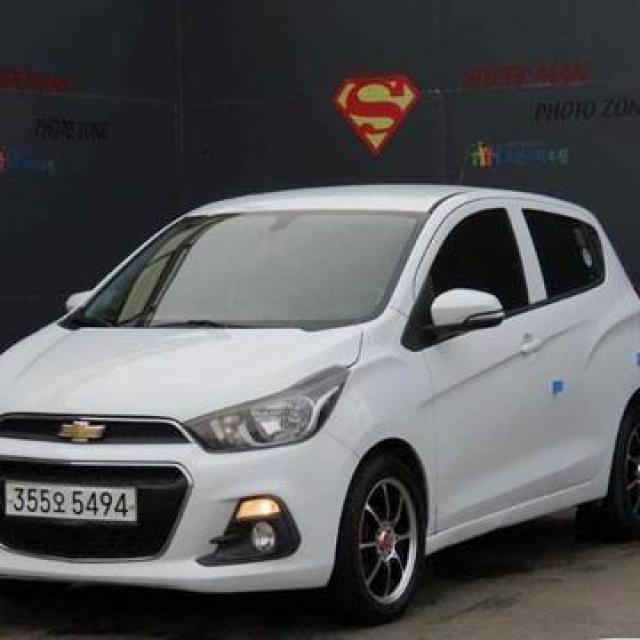car: (0, 175, 640, 620)
illegal_plate: (8, 478, 142, 533)
